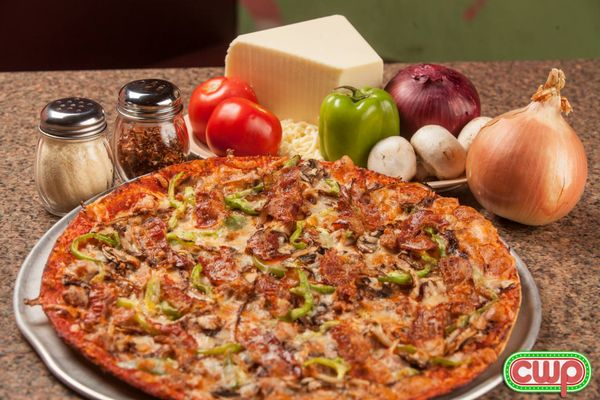steak: (465, 67, 589, 226), (384, 62, 482, 138)
